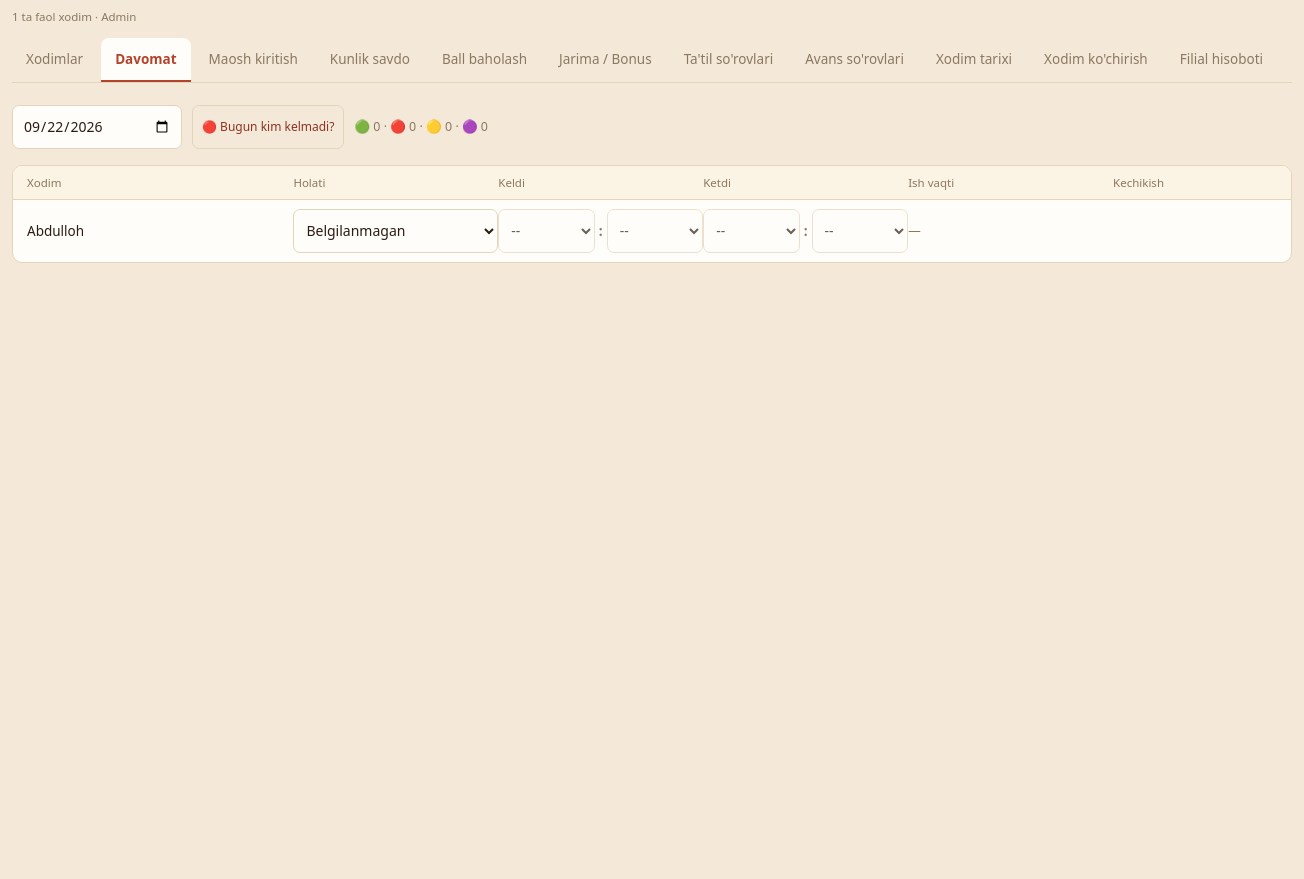
Test case: admin can open employee history and see a selected employee
The image size is (1304, 879).
Click the button "Xodim tarixi" at (974, 60), box [922,38,1026,82]
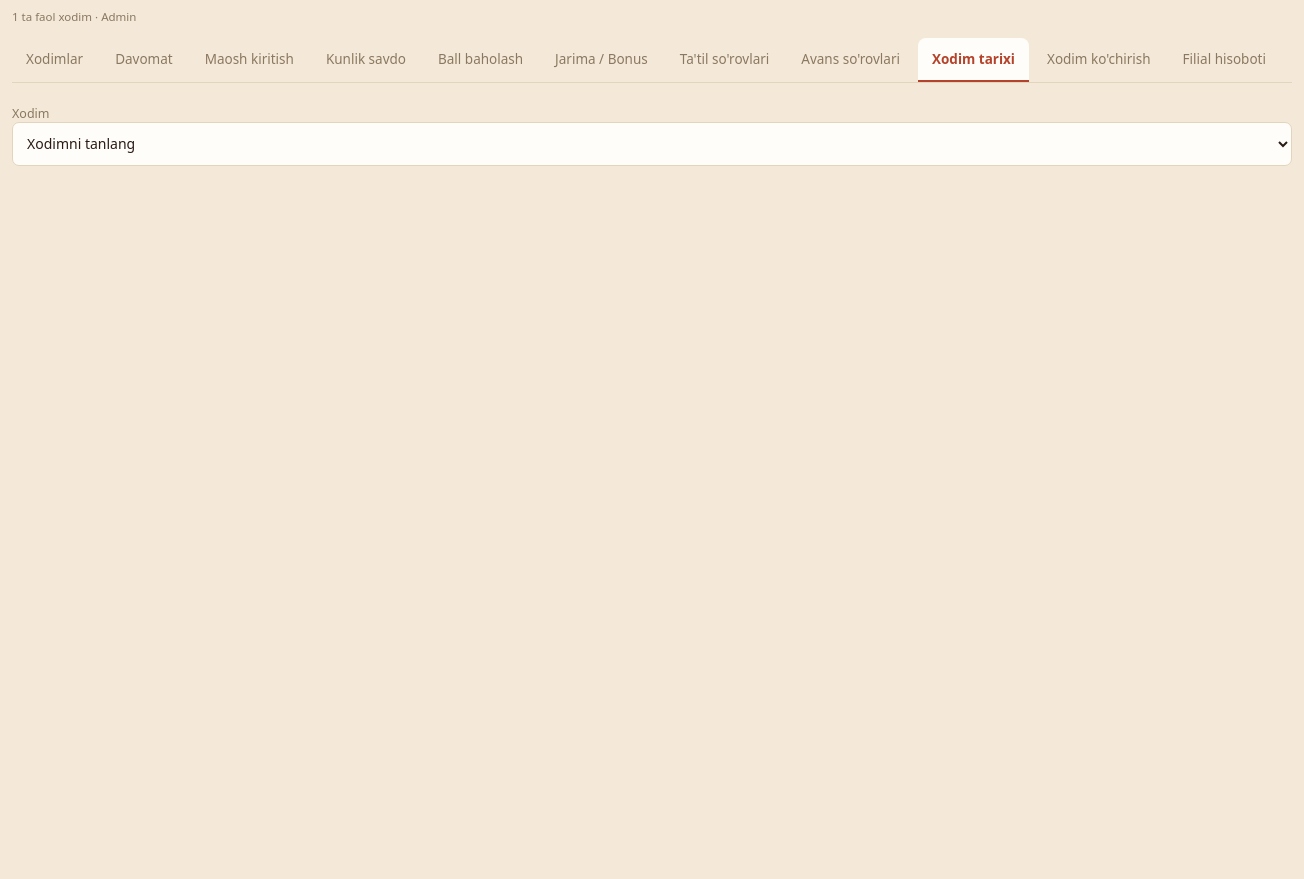
Select "Abdulloh" in the dropdown at (652, 144), box [12,122,1292,166]
(page scrolled)
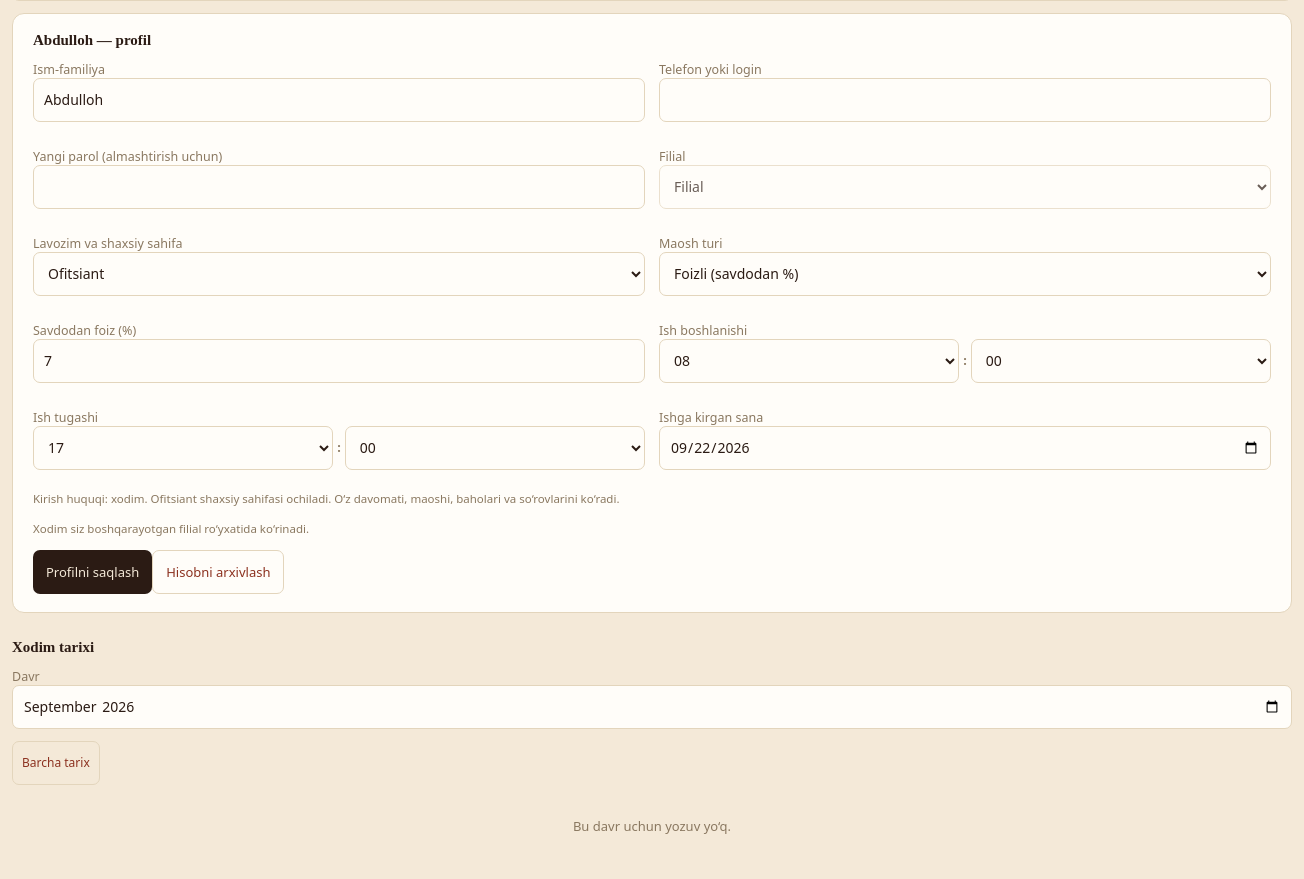
expect the button "Barcha tarix" is shown: met, box [12,741,100,785]
